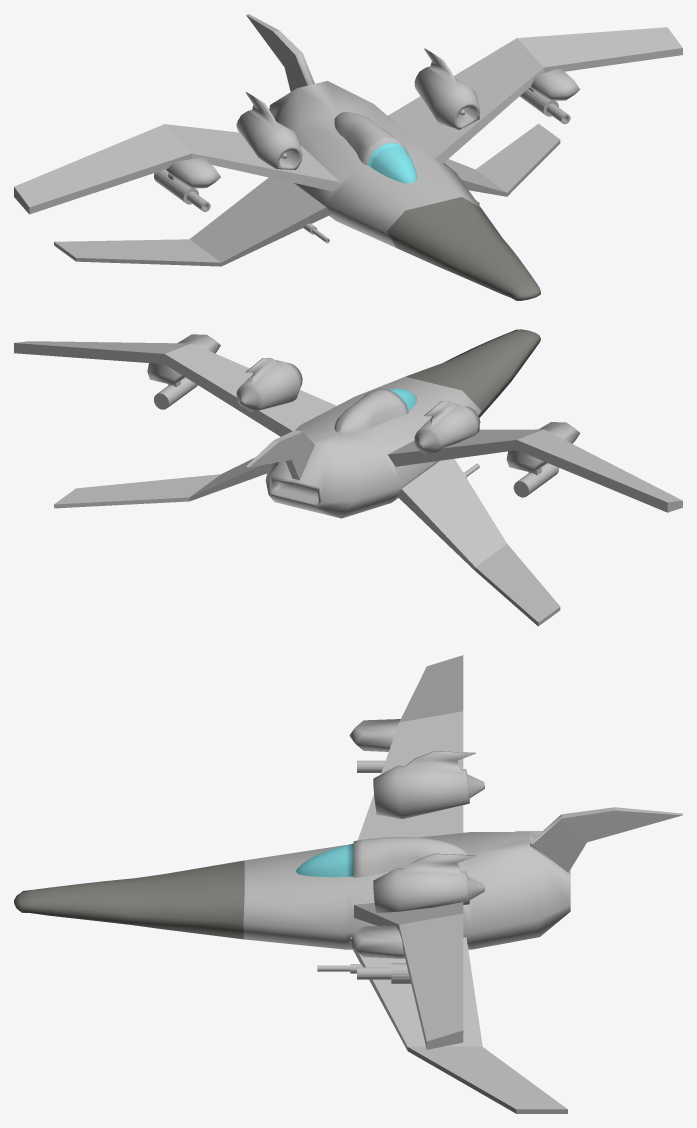
File: SpaceBicoFino.fbx
The picture shows the model from 3 angles, top to bottom: view 1: azimuth 30°, elevation 25°; view 2: azimuth 150°, elevation 25°; view 3: azimuth 270°, elevation 25°; orthographic projection. The views are drawn at different scales.
Parts seen in each view (by area): view 1: Cube.001; view 2: Cube.001; view 3: Cube.001.
Part boxes in pixels (x1,y1,x2,y2): Cube.001: [14, 14, 682, 300]; Cube.001: [14, 329, 682, 626]; Cube.001: [14, 655, 682, 1113].
Size of the model in its own units: 4887 by 1043 by 3682.
